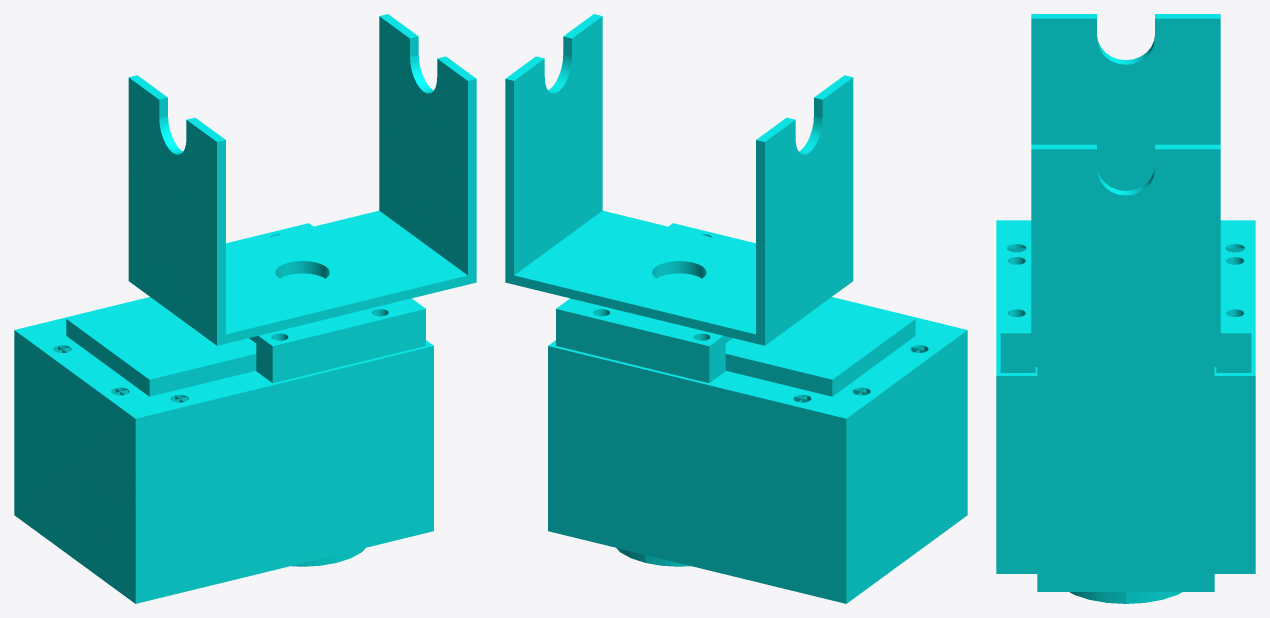
3 views of the same model, side by side, from view 1: azimuth 30°, elevation 25°; view 2: azimuth 150°, elevation 25°; view 3: azimuth 270°, elevation 25° (orthographic). The views are drawn at different scales.
Parts seen in each view (by area): view 1: MX-28T, FR07-H101, FR07-B101, group_1; view 2: MX-28T, FR07-H101, FR07-B101, group_1; view 3: FR07-H101, MX-28T, FR07-B101, group_1.
Part boxes in pixels (bbox=[...]): MX-28T: bbox=[14, 297, 433, 603]; FR07-H101: bbox=[128, 14, 476, 345]; FR07-B101: bbox=[226, 223, 425, 382]; group_1: bbox=[280, 273, 365, 566]; MX-28T: bbox=[548, 297, 967, 603]; FR07-H101: bbox=[505, 14, 853, 345]; FR07-B101: bbox=[556, 223, 755, 382]; group_1: bbox=[616, 273, 701, 566]; FR07-H101: bbox=[1031, 14, 1220, 366]; MX-28T: bbox=[996, 220, 1255, 591]; FR07-B101: bbox=[1000, 253, 1251, 372]; group_1: bbox=[1069, 592, 1182, 603].
Bounding box in the file's own units: 2.39 × 1.4 × 2.93.
